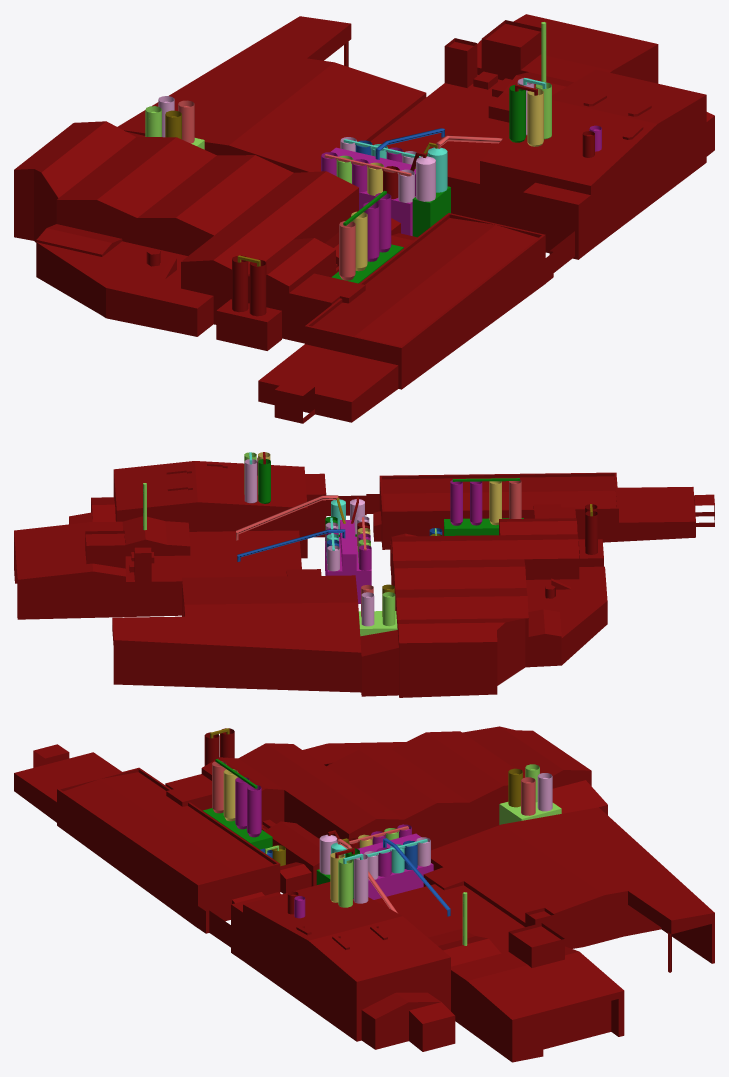
3 renders of one model, top to bottom at view 1: azimuth 30°, elevation 25°; view 2: azimuth 150°, elevation 25°; view 3: azimuth 270°, elevation 25°, orthographic. The views are drawn at different scales.
Visible parts, largest first — view 1: Group_002, Group_006, Group_005, Silo01_2_002, Silo01_2_005, Silo01_2_007, Silo01_2_008, Silo01_2_006, Silo01_1_002, Silo01_2_001, Silo01_2_003, Silo01_2_004; view 2: Group_002, Group_006, Group_003, Silo01_2_010, Composant__2_002, Silo01_2_001, Silo01_2_003, Silo01_2_008, Silo01_2_006, Silo01_2_004, Group_007, Composant__2_001 (+3 smaller); view 3: Group_002, Group_006, Silo01_2_001, Silo01_2_010, Group_007, Group_003, Silo01_2_009, Silo01_2_004, Silo01_2_002, Silo01_2_003, Silo01_018, Silo01_015.
Part boxes in pixels (x1=…): Group_002: x1=14, y1=14, x2=714, y2=423; Group_006: x1=331, y1=147, x2=415, y2=235; Group_005: x1=412, y1=186, x2=450, y2=237; Silo01_2_002: x1=339, y1=221, x2=355, y2=280; Silo01_2_005: x1=249, y1=259, x2=266, y2=316; Silo01_2_007: x1=527, y1=88, x2=543, y2=146; Silo01_2_008: x1=509, y1=84, x2=525, y2=142; Silo01_2_006: x1=232, y1=255, x2=248, y2=312; Silo01_1_002: x1=416, y1=156, x2=435, y2=201; Silo01_2_001: x1=374, y1=193, x2=391, y2=252; Silo01_2_003: x1=363, y1=202, x2=379, y2=261; Silo01_2_004: x1=351, y1=211, x2=367, y2=271; Group_002: x1=14, y1=461, x2=714, y2=697; Group_006: x1=325, y1=520, x2=371, y2=603; Group_003: x1=444, y1=518, x2=523, y2=535; Silo01_2_010: x1=244, y1=459, x2=257, y2=503; Composant__2_002: x1=236, y1=495, x2=338, y2=540; Silo01_2_001: x1=450, y1=480, x2=462, y2=525; Silo01_2_003: x1=470, y1=481, x2=482, y2=525; Silo01_2_008: x1=258, y1=459, x2=270, y2=503; Silo01_2_006: x1=585, y1=511, x2=597, y2=554; Silo01_2_004: x1=489, y1=481, x2=501, y2=525; Group_007: x1=358, y1=611, x2=397, y2=636; Composant__2_001: x1=237, y1=529, x2=345, y2=561; Group_002: x1=14, y1=726, x2=714, y2=1062; Group_006: x1=357, y1=833, x2=433, y2=899; Silo01_2_001: x1=247, y1=785, x2=261, y2=837; Silo01_2_010: x1=353, y1=854, x2=368, y2=903; Group_007: x1=499, y1=802, x2=561, y2=824; Group_003: x1=202, y1=808, x2=272, y2=849; Silo01_2_009: x1=338, y1=858, x2=352, y2=907; Silo01_2_004: x1=223, y1=769, x2=238, y2=821; Silo01_2_002: x1=212, y1=761, x2=226, y2=813; Silo01_2_003: x1=235, y1=777, x2=249, y2=829; Silo01_018: x1=537, y1=773, x2=552, y2=811; Silo01_015: x1=521, y1=777, x2=535, y2=815.
Bounding box in the file's own units: 5754 × 1125 × 5988.
